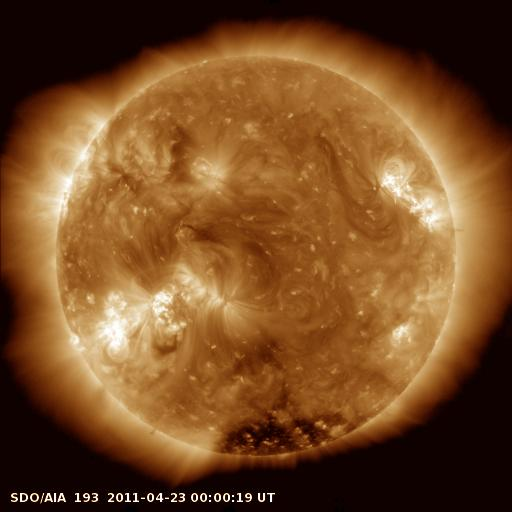coronal_hole: (217, 410, 359, 458)
